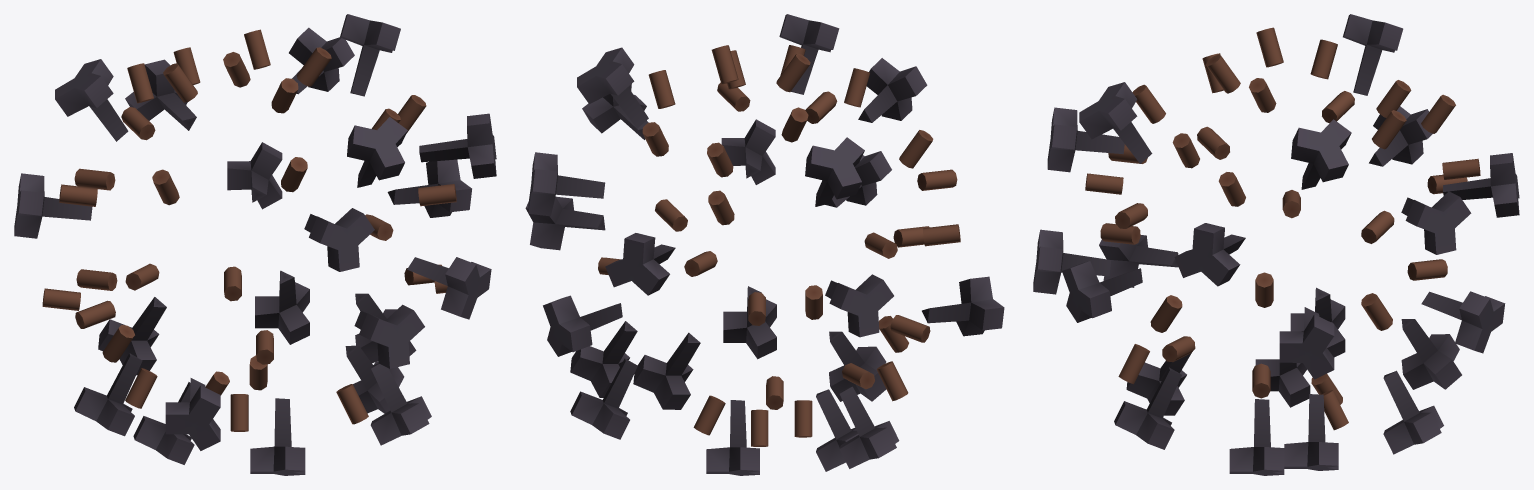
3 renders of one model, left to right at view 1: azimuth 30°, elevation 25°; view 2: azimuth 150°, elevation 25°; view 3: azimuth 270°, elevation 25°, orthographic. The views are drawn at different scales.
Parts seen in each view (by area): view 1: base.494; view 2: base.494; view 3: base.494.
Part boxes in pixels (left/top/right/bottom): base.494: left=14, top=14, right=496, bottom=475; base.494: left=525, top=14, right=1004, bottom=475; base.494: left=1033, top=14, right=1519, bottom=475.
Size of the model in its own units: 0.4747 by 0.4539 by 0.5.
